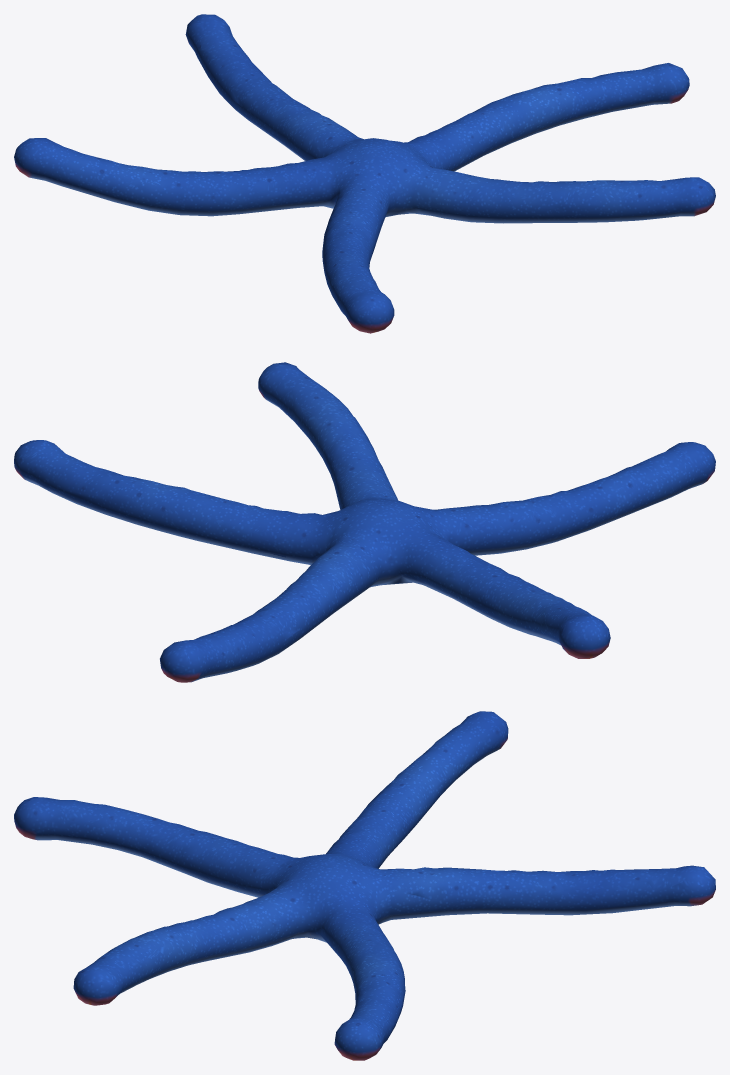
The model's file is BlueStarfish.gltf.
3 views of the same model, one above another, from view 1: azimuth 30°, elevation 25°; view 2: azimuth 150°, elevation 25°; view 3: azimuth 270°, elevation 25° (orthographic). The views are drawn at different scales.
Visible parts, largest first — view 1: BlueStarfish; view 2: BlueStarfish; view 3: BlueStarfish.
Part boxes in pixels (x1,y1,x2,y2): BlueStarfish: (14, 14, 715, 333); BlueStarfish: (14, 362, 715, 682); BlueStarfish: (14, 711, 715, 1060).
Size of the model in its own units: 0.3119 by 0.0344 by 0.3006.
Materials: 1 (1 with a texture image).
